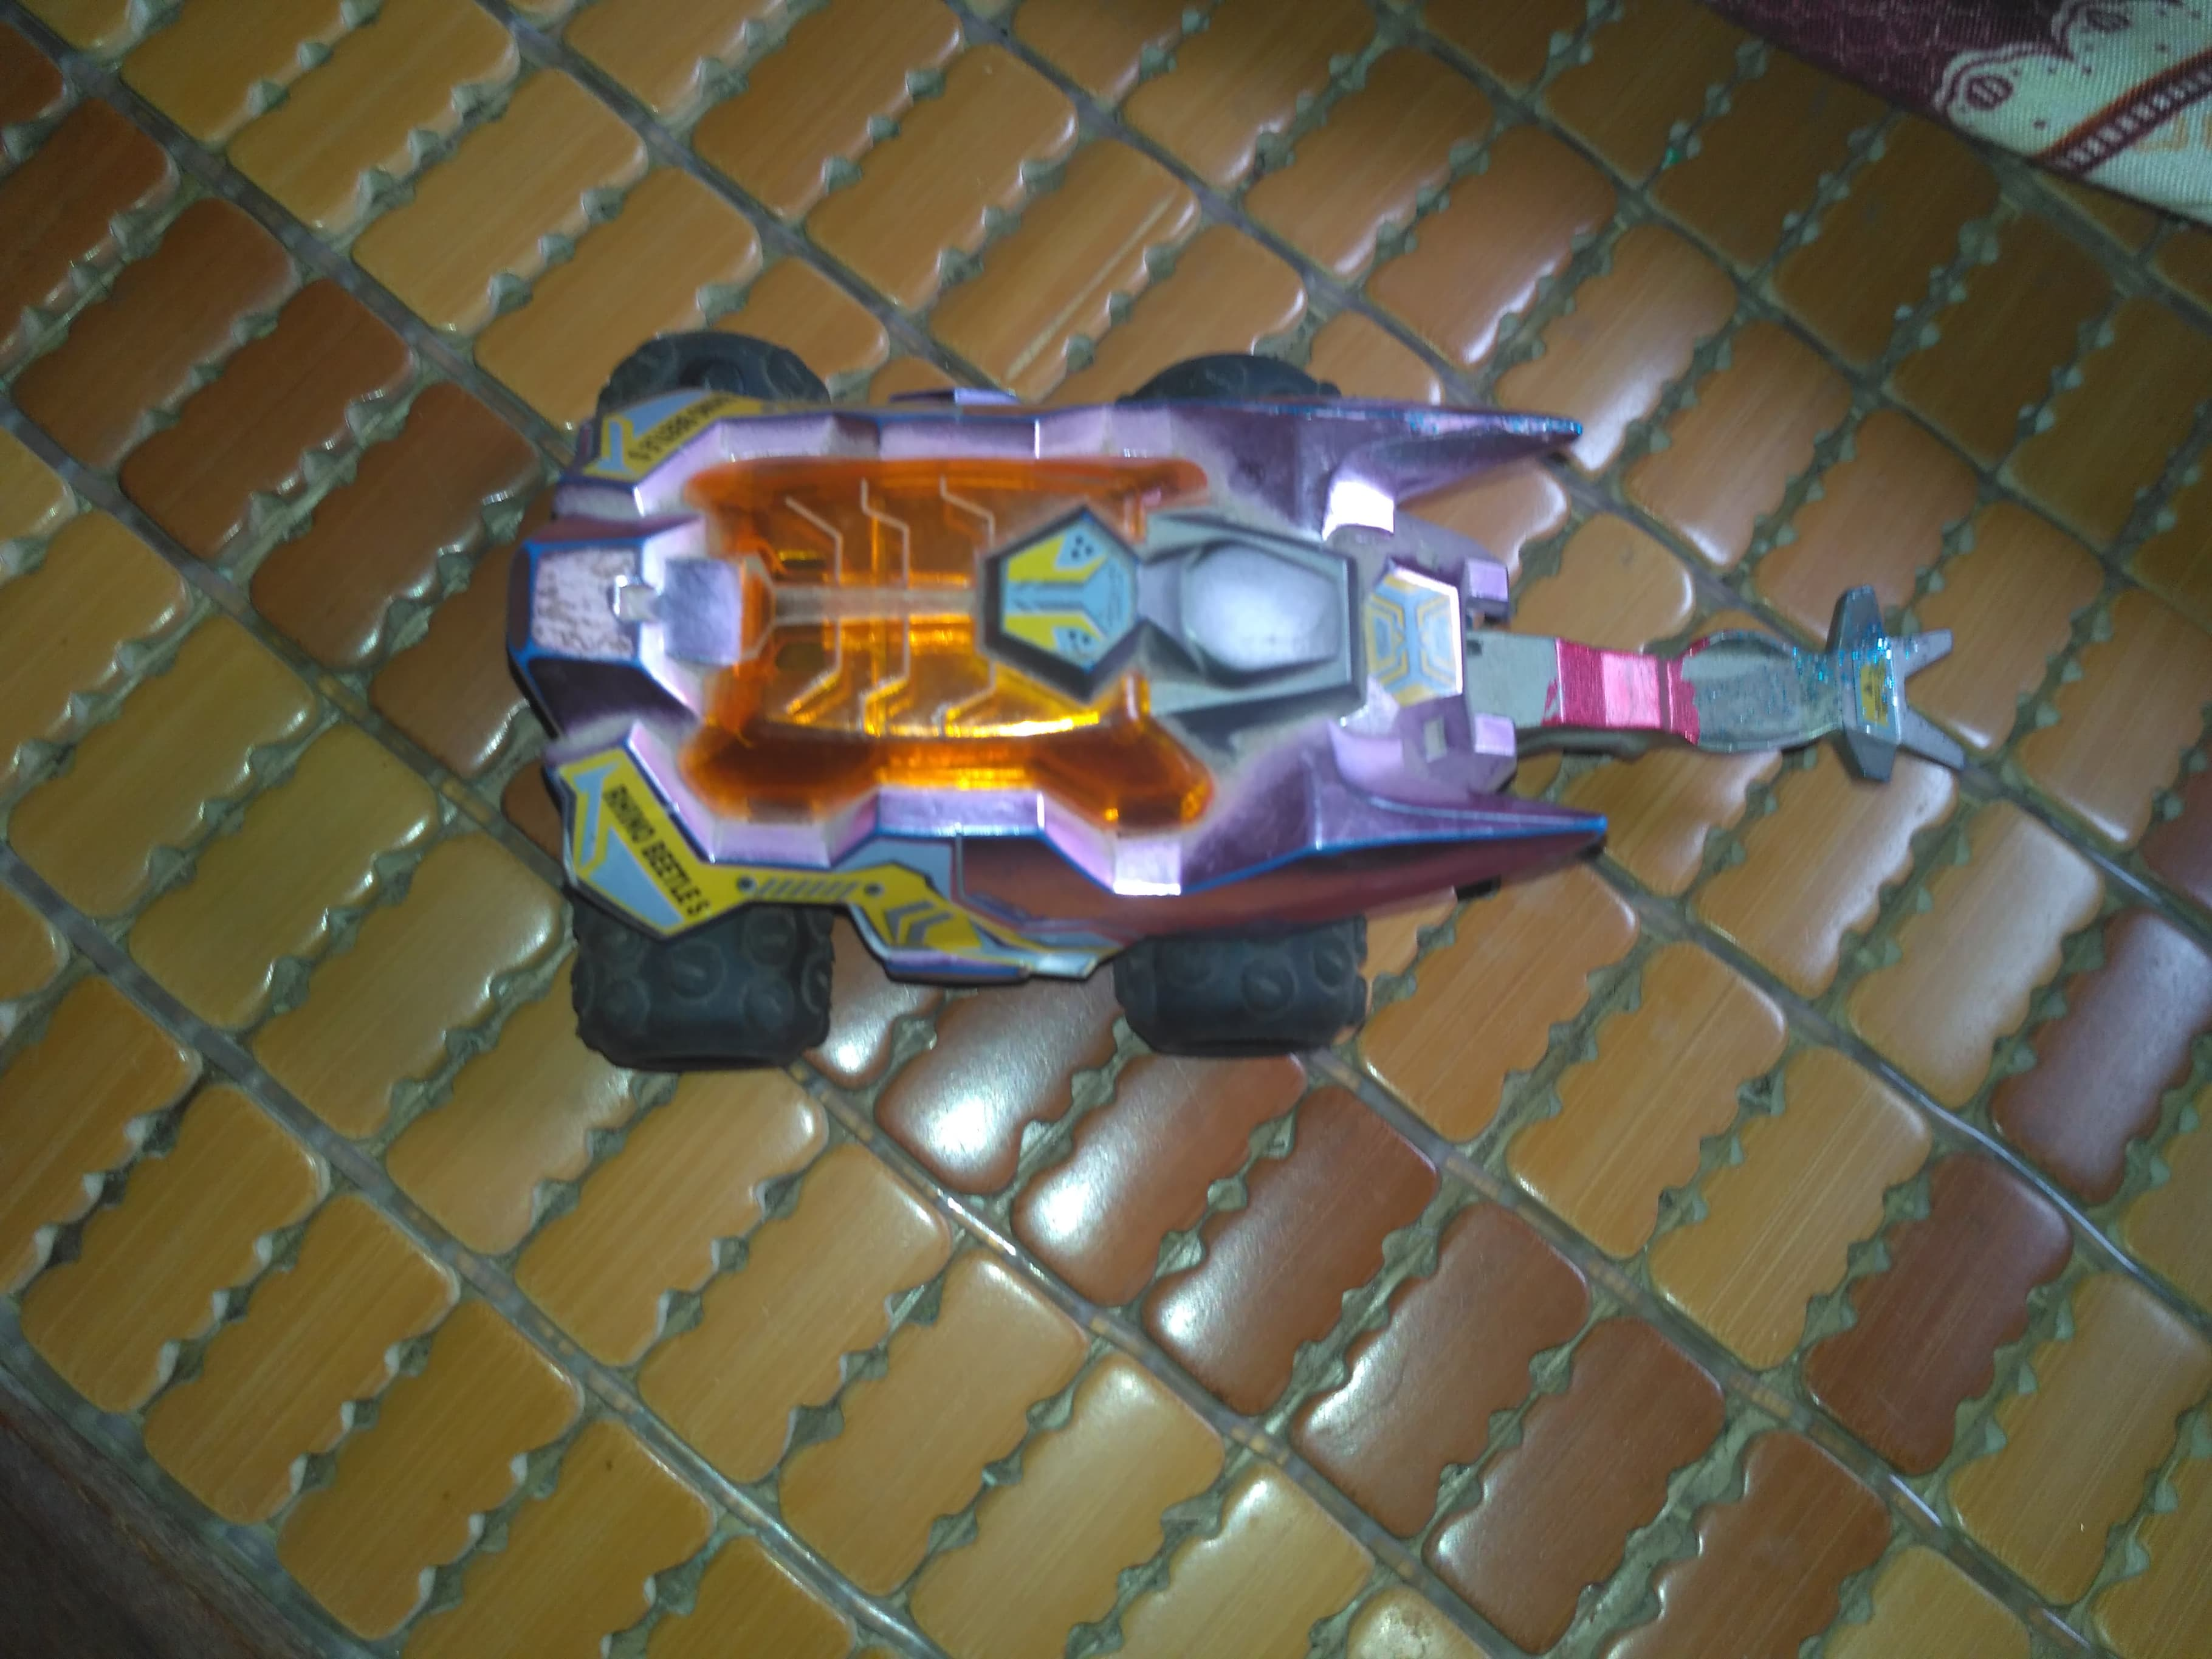rhino: (496, 324, 1987, 1082)
